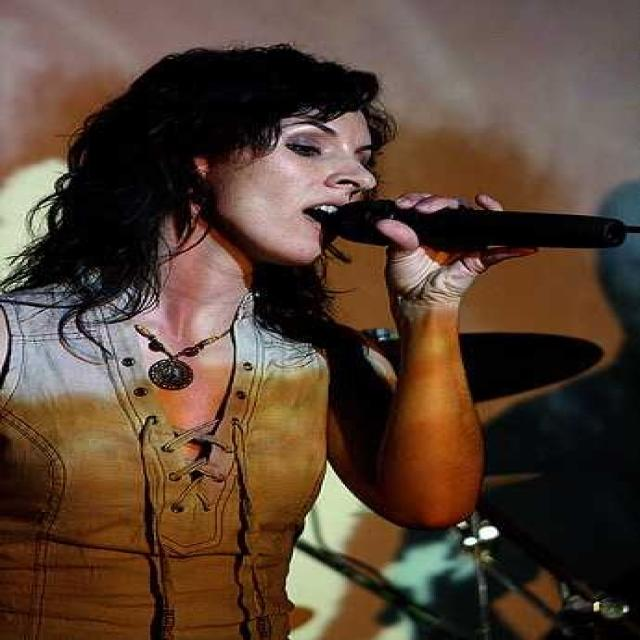microphone: (321, 188, 640, 293)
